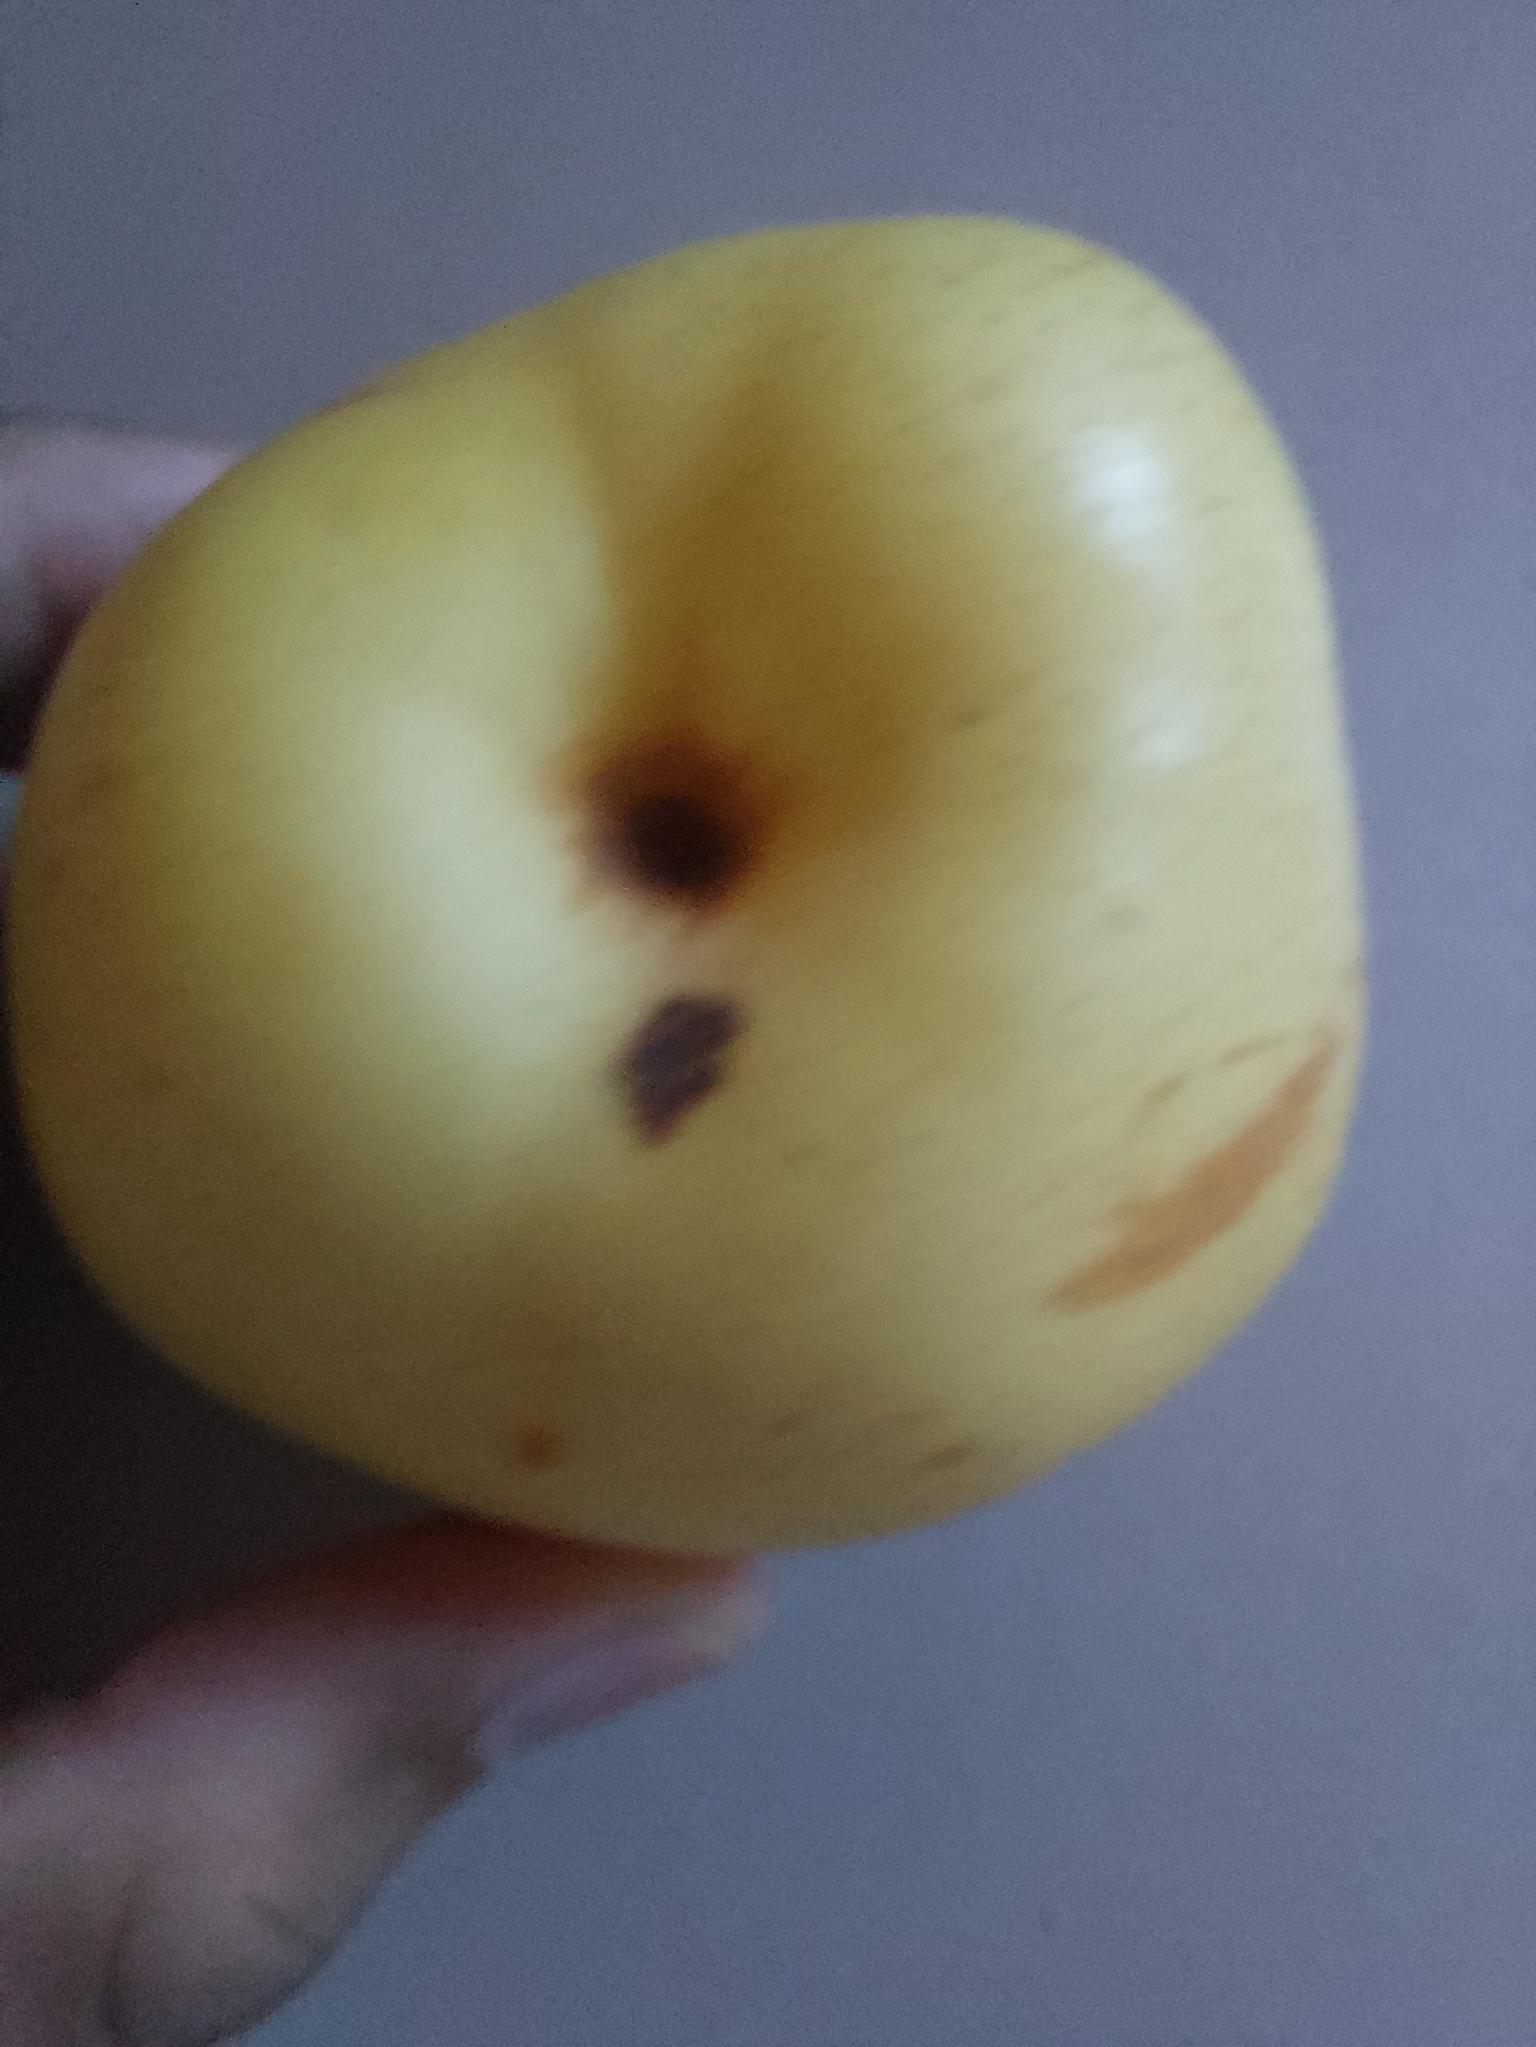Good Pear: (19, 232, 1376, 1557)
